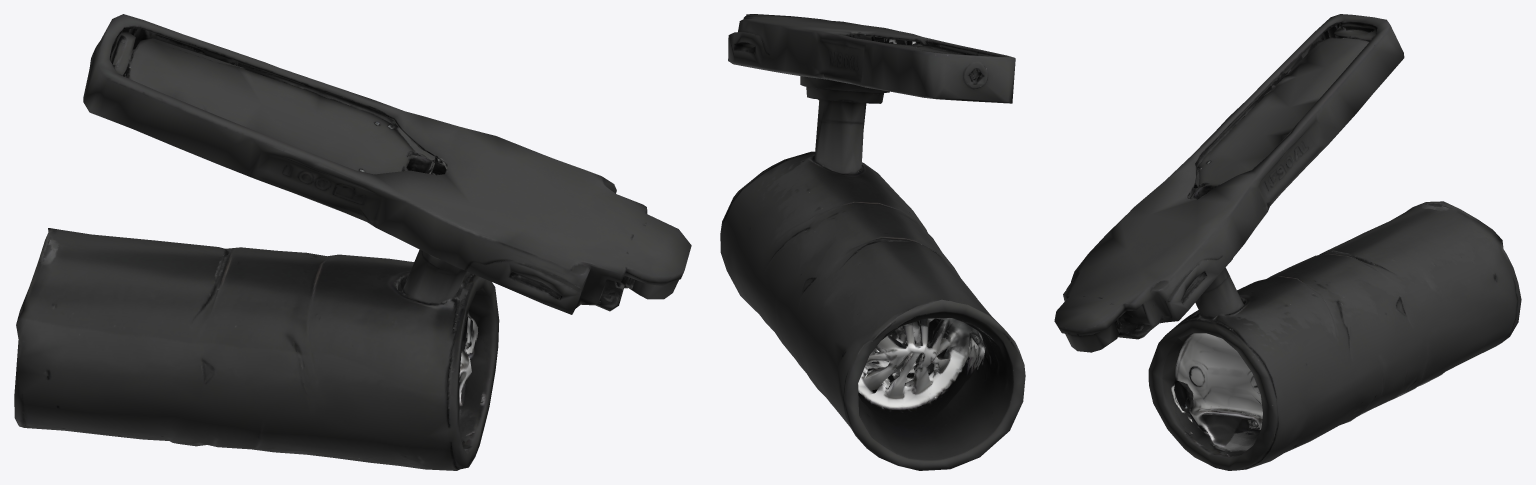
Rendered from luminaria16.obj.
3 views of the same model, side by side, from view 1: azimuth 30°, elevation 25°; view 2: azimuth 150°, elevation 25°; view 3: azimuth 270°, elevation 25° (orthographic). The views are drawn at different scales.
Visible parts, largest first — view 1: luminaria16; view 2: luminaria16; view 3: luminaria16.
Boxes of the visible parts, left/top/right/bottom form: luminaria16: left=14, top=14, right=691, bottom=470; luminaria16: left=720, top=14, right=1025, bottom=470; luminaria16: left=1054, top=14, right=1521, bottom=470.
Size of the model in its own units: 1.93 by 1.63 by 1.97.
Materials: 1 (1 with a texture image).
